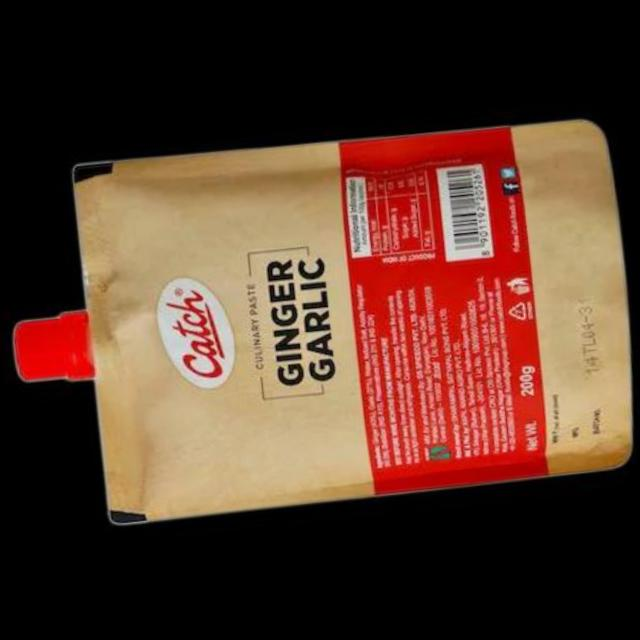Catch Ginger Garlic Paste 200 g: (0, 103, 640, 543)
